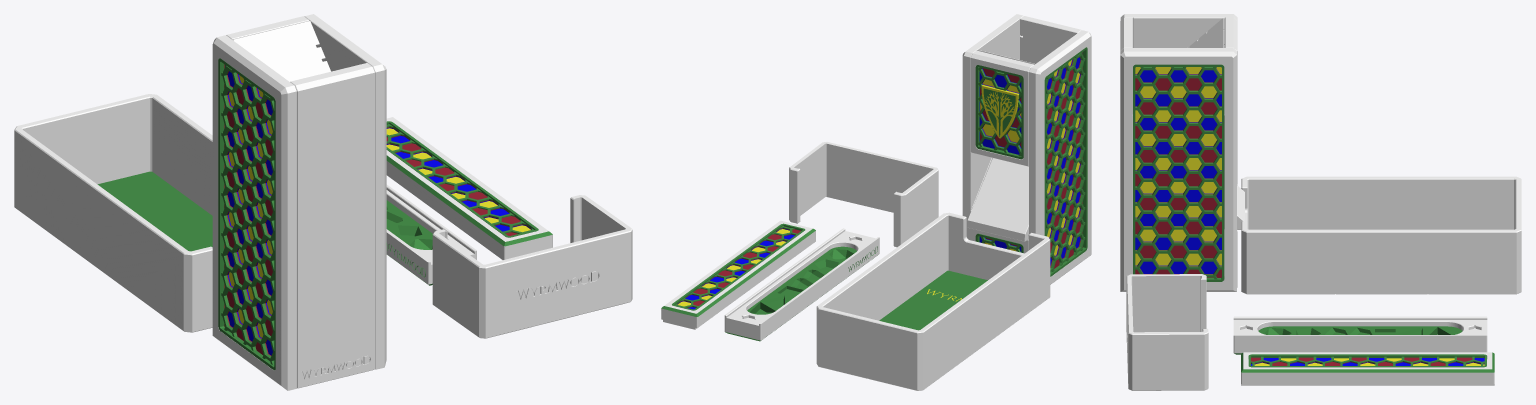
The model's file is Hex.glb.
3 renders of one model, left to right at view 1: azimuth 30°, elevation 25°; view 2: azimuth 150°, elevation 25°; view 3: azimuth 270°, elevation 25°, orthographic. The views are drawn at different scales.
Parts seen in each view (by area): view 1: Assembly_fil4, Assembly_fil4.011, P Tray Clamp_fil4, Assembly_fil1.014, Assembly_fil4.008, Assembly_fil4.007, Assembly_fil1.004, Assembly_fil4.006, Assembly_fil4.013, Assembly_fil3.003, Assembly_fil1.009, Assembly_fil4.005 (+8 smaller); view 2: Assembly_fil4, P Tray Clamp_fil4, Assembly_fil1.014, Assembly_fil4.008, Assembly_fil4.005, Assembly_fil4.012, Assembly_fil4.007, Assembly_fil4.006, Assembly_fil1.004, Assembly_fil4.010, Assembly_fil1.006, Assembly_fil3.003 (+14 smaller); view 3: Assembly_fil4, P Tray Clamp_fil4, Assembly_fil1.011, Assembly_fil4.007, Assembly_fil4.005, Assembly_fil4.006, Assembly_fil3.002, Assembly_fil6.002, Assembly_fil2.009, Assembly_fil4.008, Assembly_fil1.009, Assembly_fil1.006 (+8 smaller).
Part boxes in pixels (box(x1,y1,x2,y2)): Assembly_fil4: box(14, 94, 212, 332); Assembly_fil4.011: box(290, 63, 374, 388); P Tray Clamp_fil4: box(432, 195, 632, 338); Assembly_fil1.014: box(218, 58, 275, 370); Assembly_fil4.008: box(212, 35, 296, 390); Assembly_fil4.007: box(304, 14, 386, 369); Assembly_fil1.004: box(97, 171, 212, 251); Assembly_fil4.006: box(386, 117, 552, 259); Assembly_fil4.013: box(233, 21, 330, 81); Assembly_fil3.003: box(224, 64, 272, 355); Assembly_fil1.009: box(386, 121, 538, 237); Assembly_fil4.005: box(386, 184, 476, 284); Assembly_fil4: box(816, 212, 1050, 390); P Tray Clamp_fil4: box(789, 142, 938, 247); Assembly_fil1.014: box(1044, 47, 1087, 276); Assembly_fil4.008: box(1029, 30, 1091, 284); Assembly_fil4.005: box(724, 228, 879, 340); Assembly_fil4.012: box(967, 158, 1028, 241); Assembly_fil4.007: box(962, 14, 1023, 240); Assembly_fil4.006: box(661, 220, 815, 329); Assembly_fil1.004: box(879, 270, 987, 330); Assembly_fil4.010: box(971, 50, 1033, 166); Assembly_fil1.006: box(747, 246, 856, 314); Assembly_fil3.003: box(1047, 52, 1082, 268); Assembly_fil4: box(1241, 176, 1521, 294); P Tray Clamp_fil4: box(1126, 274, 1208, 390); Assembly_fil1.011: box(1133, 64, 1224, 281); Assembly_fil4.007: box(1120, 48, 1236, 291); Assembly_fil4.005: box(1233, 316, 1487, 353); Assembly_fil4.006: box(1241, 352, 1494, 385); Assembly_fil3.002: box(1135, 69, 1221, 277); Assembly_fil6.002: box(1135, 68, 1221, 273); Assembly_fil2.009: box(1135, 67, 1221, 265); Assembly_fil4.008: box(1120, 14, 1237, 185); Assembly_fil1.009: box(1248, 354, 1486, 367); Assembly_fil1.006: box(1258, 326, 1462, 334).
Bounding box in the file's own units: 0.2762 × 0.2111 × 0.3195.
